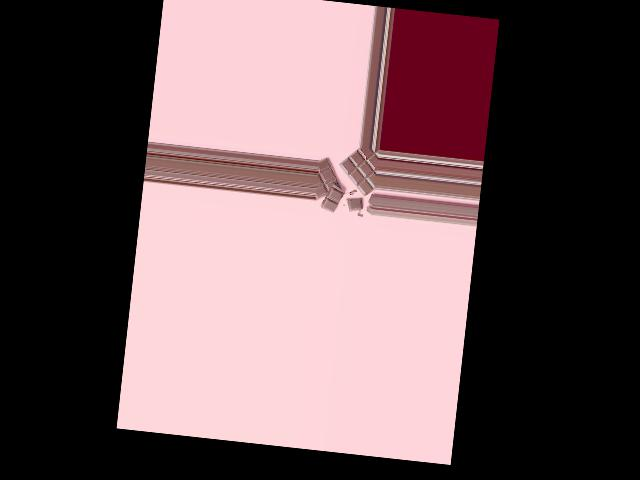chocolate: (318, 143, 378, 212)
